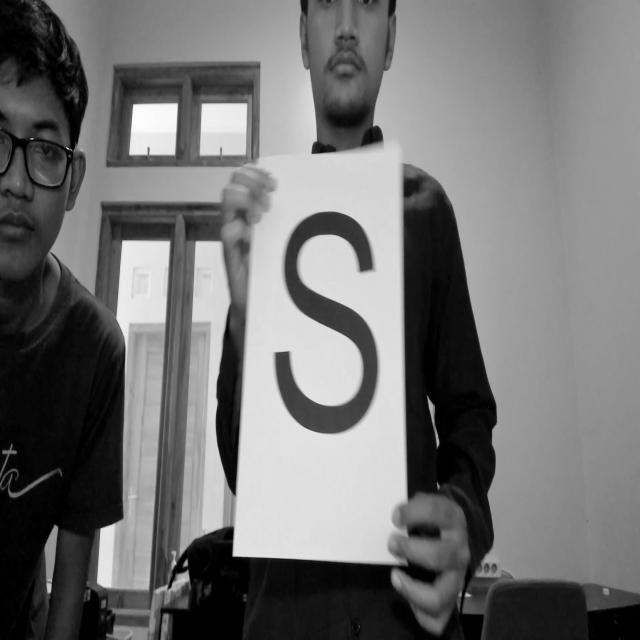s: (272, 208, 387, 444)
